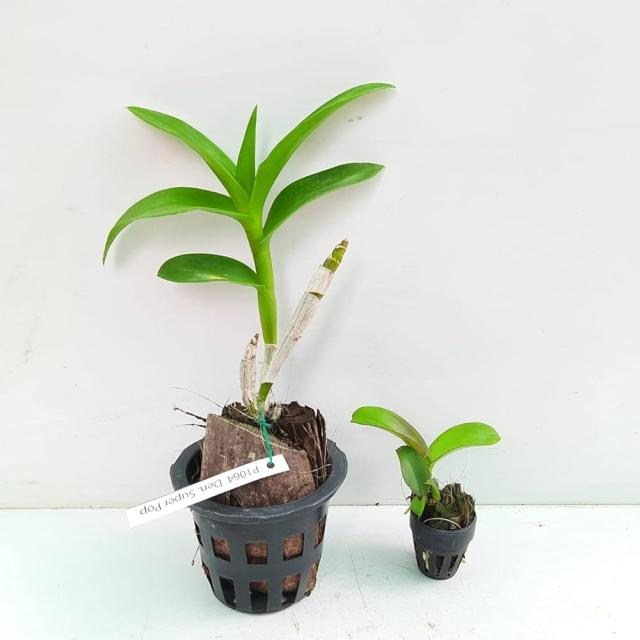leaf: (255, 78, 410, 217), (123, 102, 253, 211), (106, 185, 244, 269), (263, 161, 390, 242), (351, 403, 431, 471), (156, 251, 268, 294), (423, 419, 507, 464), (393, 436, 431, 507), (234, 99, 260, 194)
plant: (98, 58, 389, 618), (345, 385, 522, 595)
pot: (166, 406, 348, 621), (401, 494, 481, 585)
stem: (256, 235, 353, 416), (240, 324, 263, 423)
